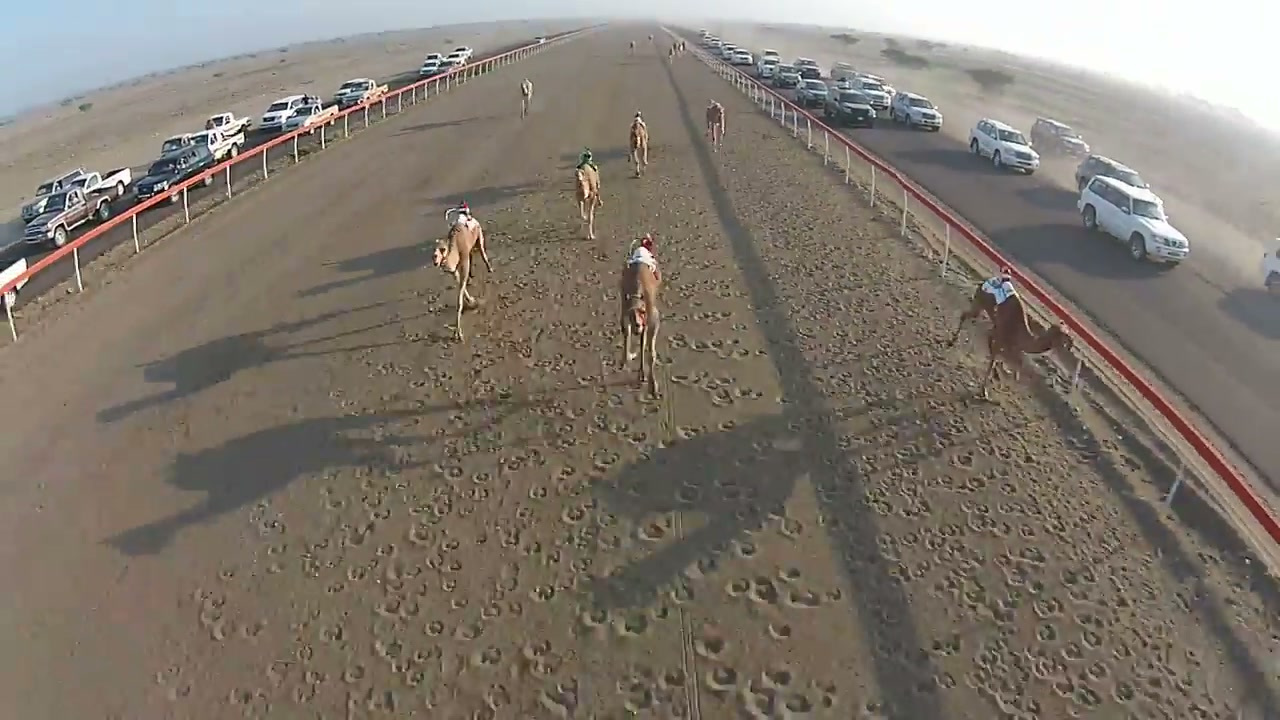animal_footprint: (146, 106, 1274, 717)
